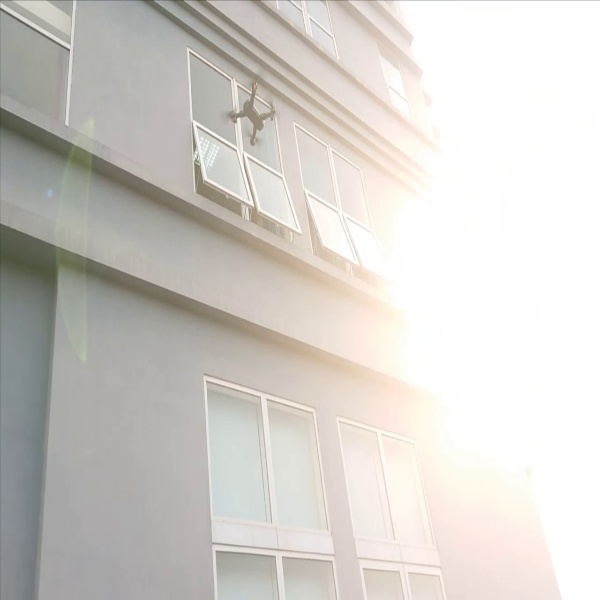drone: (219, 75, 283, 154)
